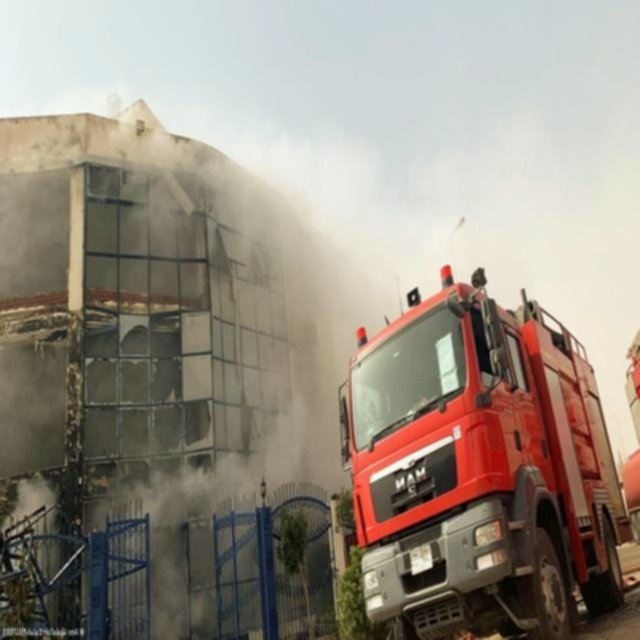Fire-truck: (338, 262, 633, 638)
